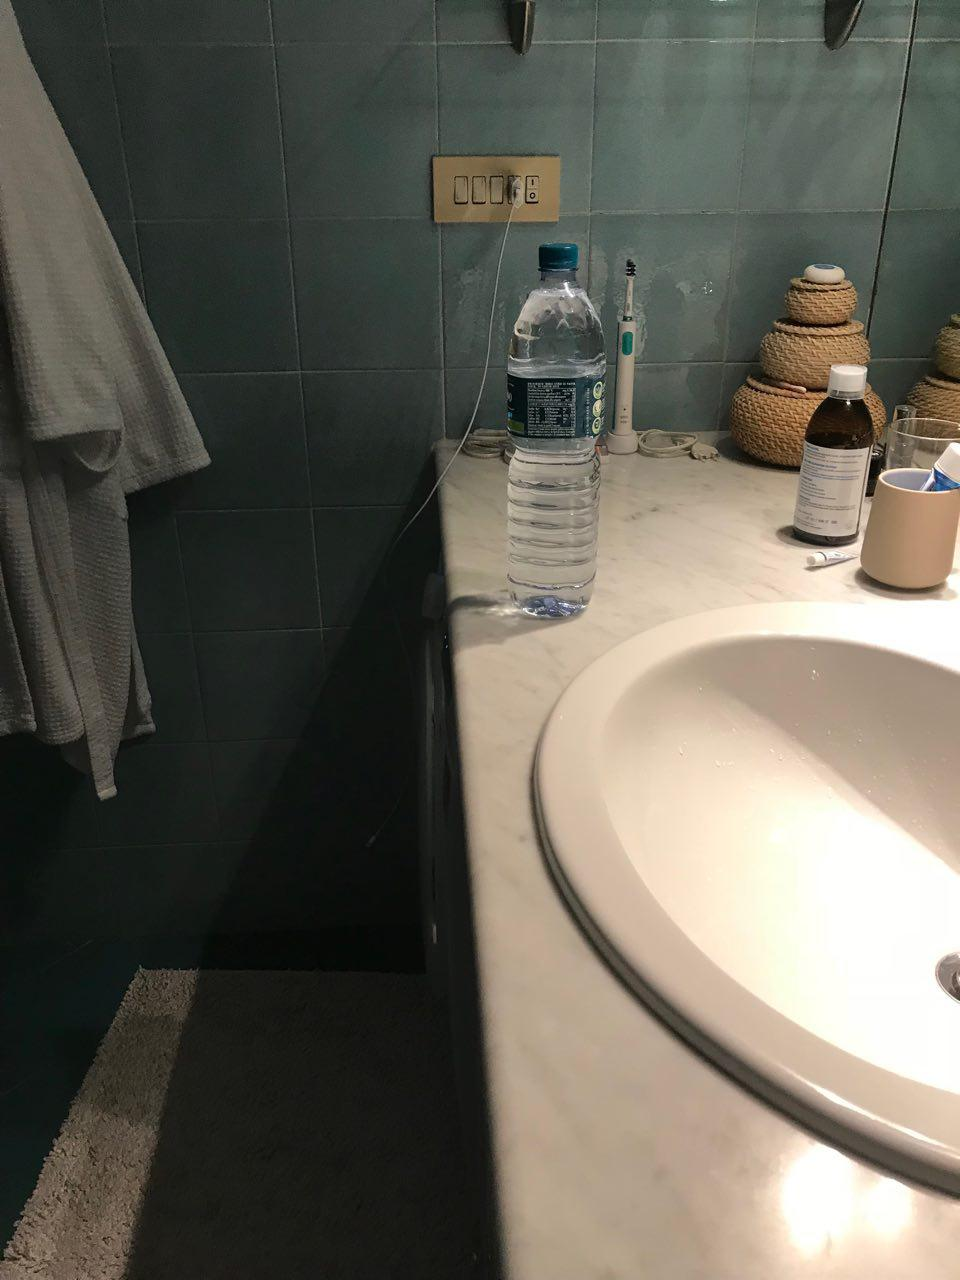san_bernardo: (504, 240, 606, 619)
